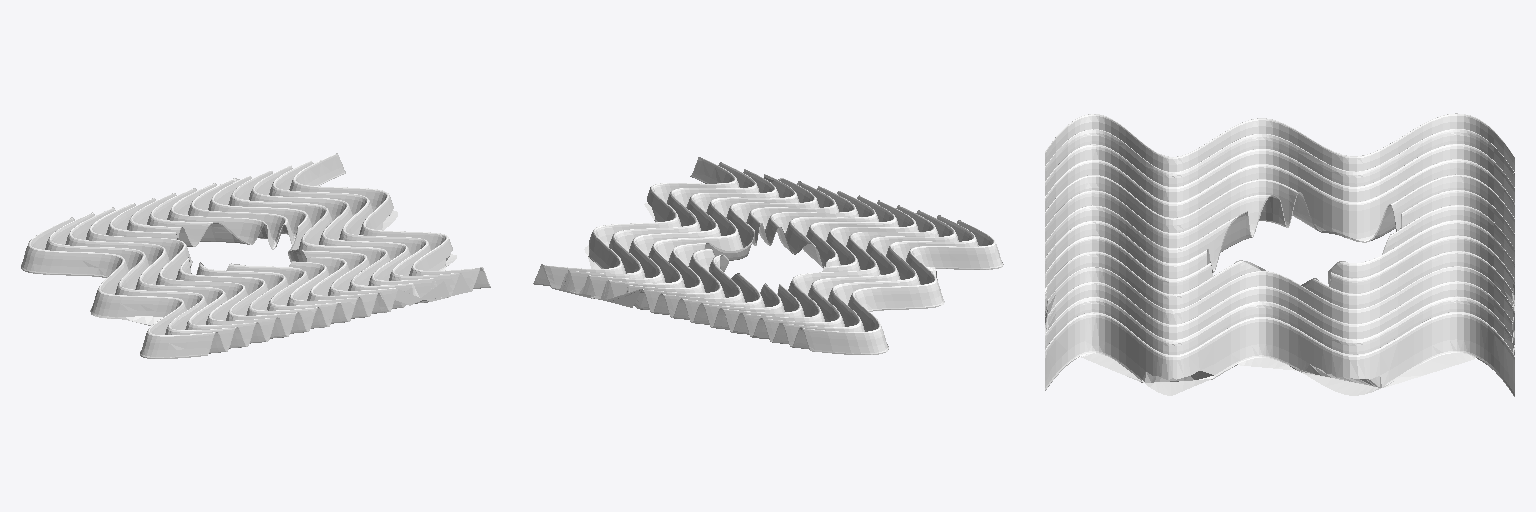
URDF robot description (Erpan_urdf):
<?xml version="1.0" encoding="utf-8"?>
<!-- This URDF was automatically created by SolidWorks to URDF Exporter! Originally created by [author] ([email redacted]) 
     Commit Version: 1.6.0-4-g7f85cfe  Build Version: 1.6.7995.38578
     For more information, please see http://wiki.ros.org/sw_urdf_exporter -->
<robot
  name="Erpan_urdf">
  <link
    name="base_link">
    <inertial>
      <origin
        xyz="0.27109 0.77215 0.040176"
        rpy="0 0 0" />
      <mass
        value="0.1" />
      <inertia
        ixx="0.1"
        ixy="0.1"
        ixz="0.1"
        iyy="0.1"
        iyz="0.1"
        izz="0.1" />
    </inertial>
    <visual>
      <origin
        xyz="0 0 0"
        rpy="0 0 0" />
      <geometry>
        <mesh
          filename="package://Erpan_urdf/meshes/base_link.STL" />
      </geometry>
      <material
        name="">
        <color
          rgba="1 1 1 1" />
      </material>
    </visual>
    <collision>
      <origin
        xyz="0 0 0"
        rpy="0 0 0" />
      <geometry>
        <mesh
          filename="package://Erpan_urdf/meshes/base_link.STL" />
      </geometry>
    </collision>
  </link>


    <gazebo reference="Erpan_urdf">
        <material>Gazebo/Grey</material>
    </gazebo>

</robot>

--- Facts derived from the render (not from the file) ---
The picture shows the robot from 3 angles, left to right: view 1: azimuth 30°, elevation 25°; view 2: azimuth 150°, elevation 25°; view 3: azimuth 270°, elevation 25°; orthographic projection.
Robot: Erpan_urdf — 1 links, 0 joints (none); root link base_link; default pose: all joints at 0.
Links seen in each view (by area): view 1: base_link; view 2: base_link; view 3: base_link.
Boxes of the visible links, x1,y1,x2,y2 form: base_link: [21, 153, 490, 358]; base_link: [533, 157, 1003, 354]; base_link: [1045, 113, 1514, 396].
Size in the robot's own frame: 0.5567 by 0.4304 by 0.0357 metres.
1 mesh visuals loaded from 1 distinct referenced files (1 binary STL).
